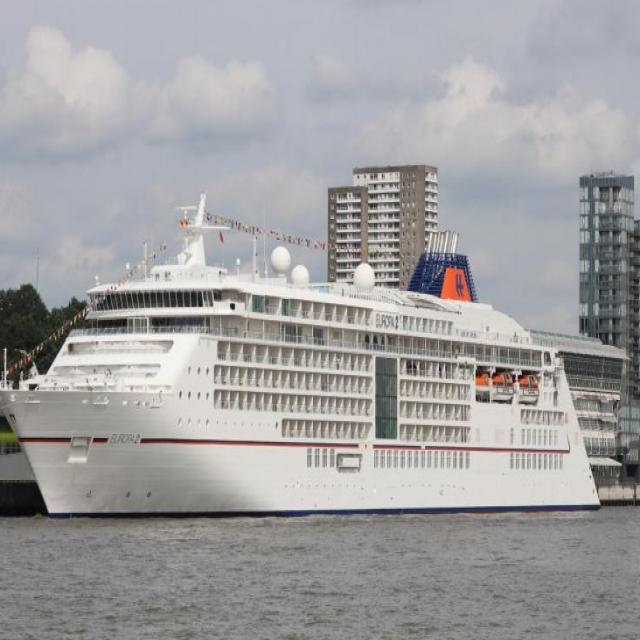cruises: (1, 179, 617, 525)
